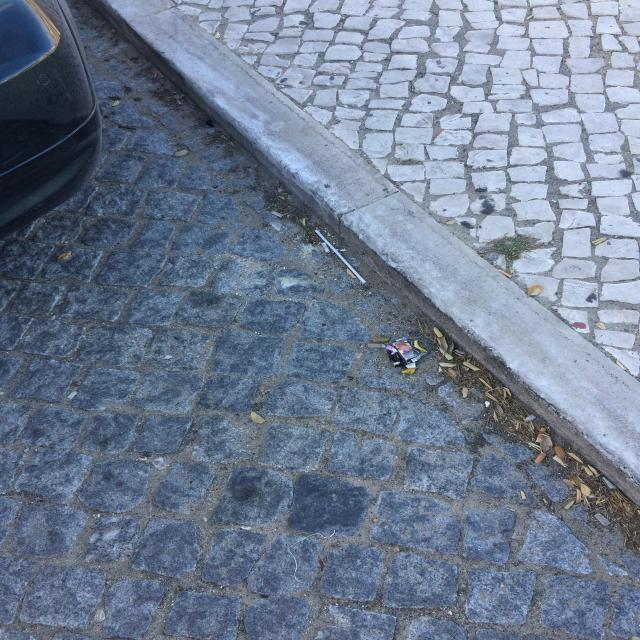litter: (305, 216, 364, 287), (387, 337, 428, 362)
